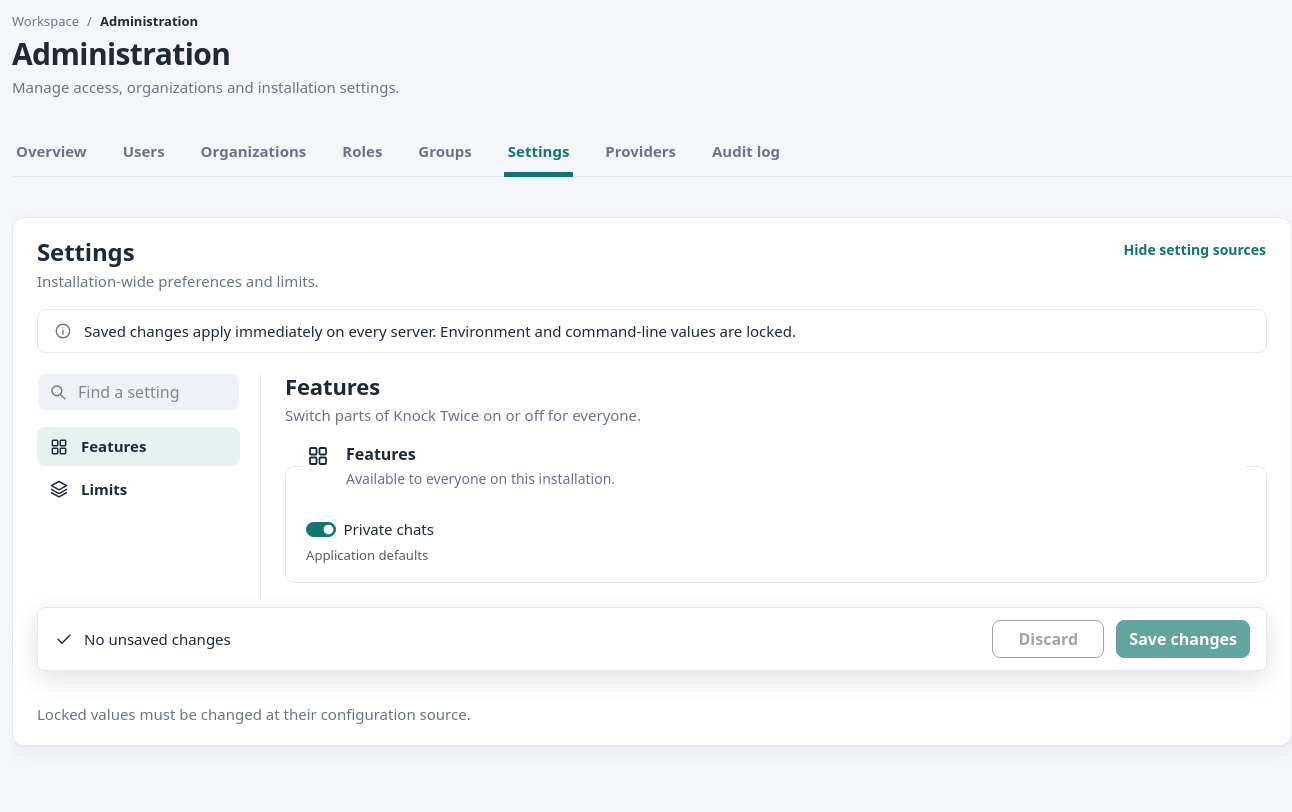
Test case: AdminPage › saves live settings and shows locked ones as read-only
The width and height of the screenshot is (1292, 812).
Expected: the text "No unsaved changes" is shown, [54,629,231,649]
Expected: the button "Save changes" is disabled, [1116,620,1250,658]
Click the switch labelled "Private chats": [321, 529] box [306,522,336,537]
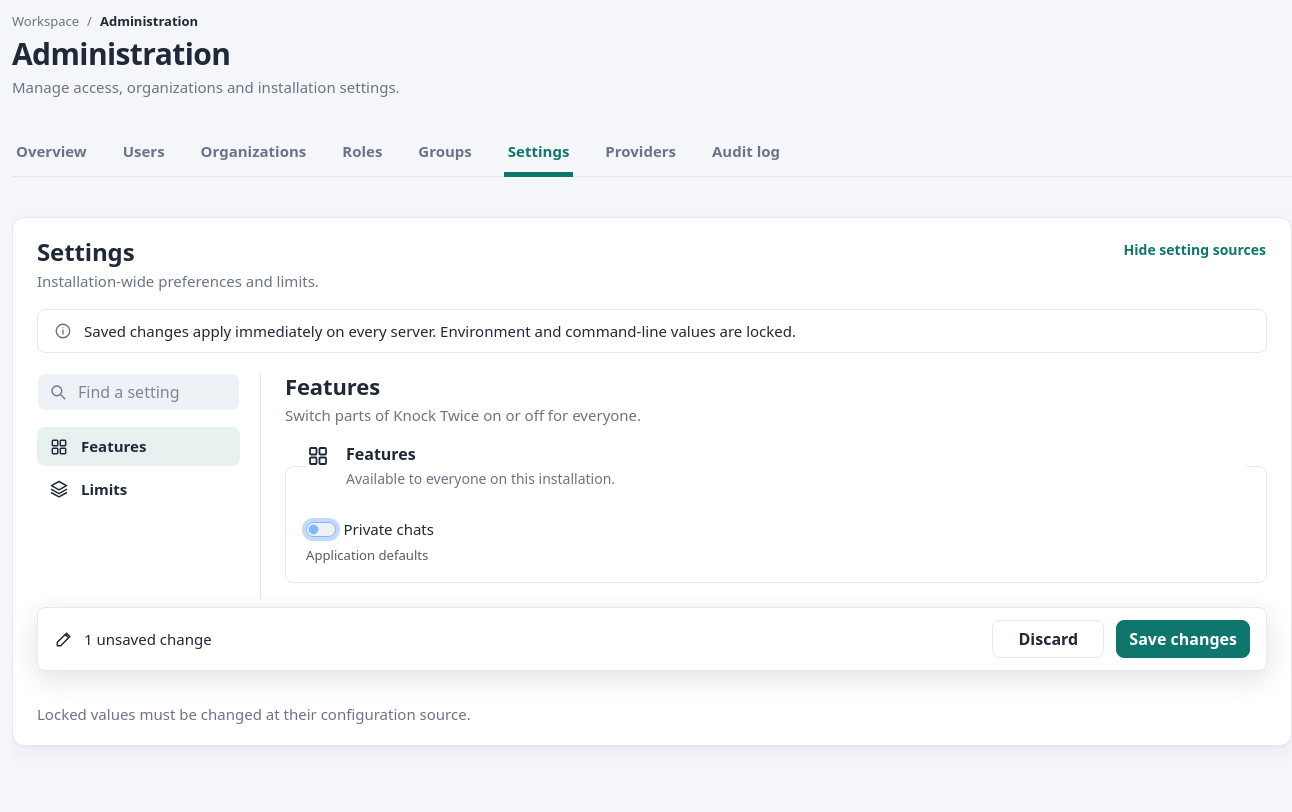
Result: the text "1 unsaved change" is shown at [54,629,212,649]
Click the button "Limits": [138, 489] box [37,470,240,508]
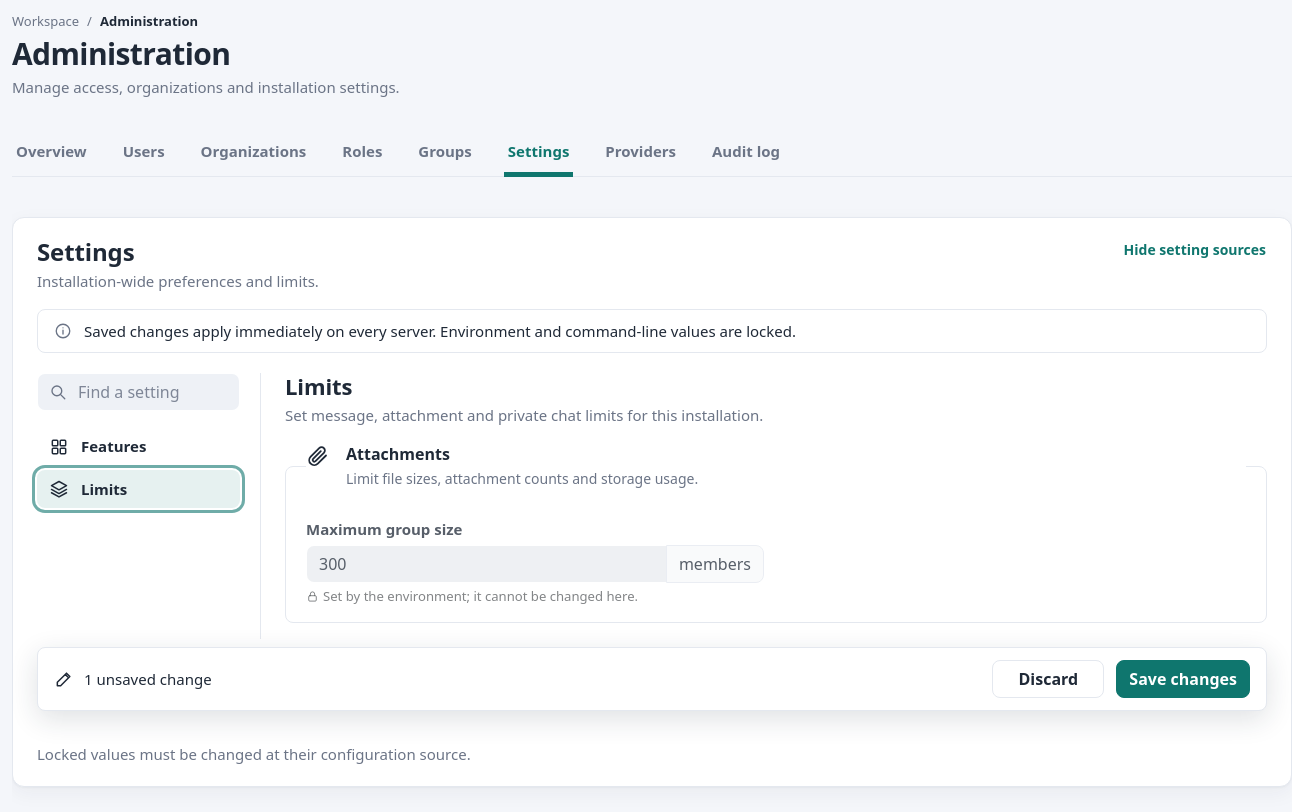
Result: the number field labelled "Maximum group size" is disabled at [306,545,667,583]
Result: the text "Set by the environment; it cannot be changed here." is shown at [306,587,638,605]
Result: the text "members" is shown at [666,545,764,583]
Note: Searching finds settings in every group.
In the search field labelled "Find a setting": [138, 392] box [37,373,240,411], type "private"
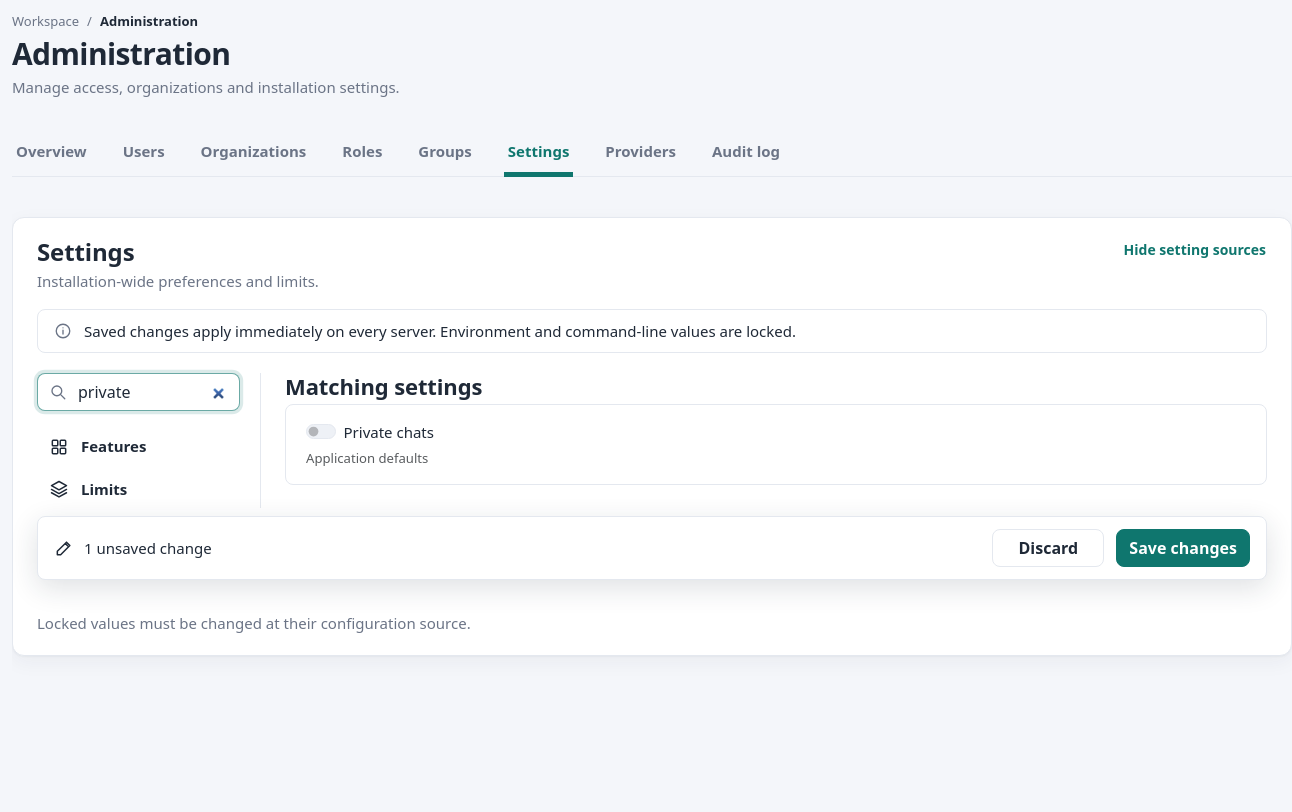
Result: the switch labelled "Private chats" is shown at [306,424,336,439]
Clear the search field named "Find a setting": [138, 392] box [37,373,240,411]
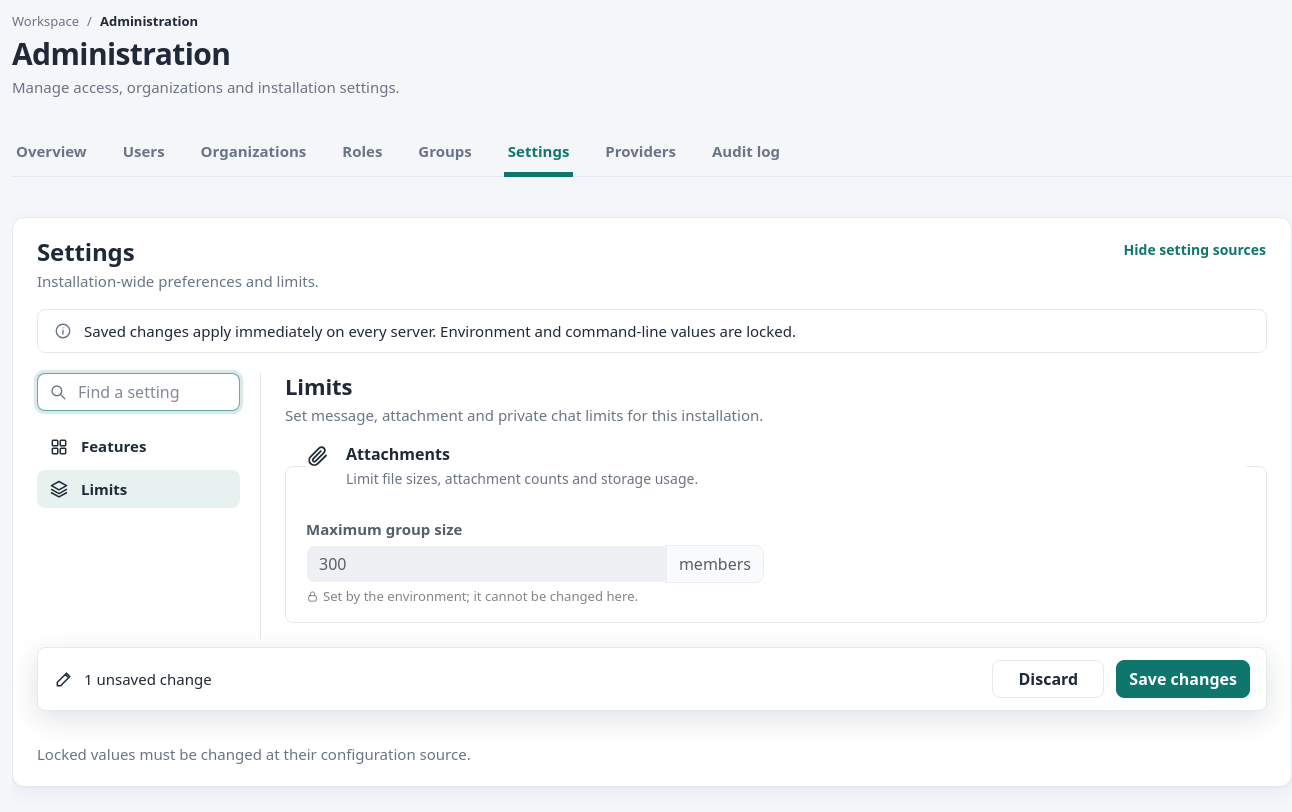
Click the button "Save changes": [1183, 679] box [1116,660,1250,698]
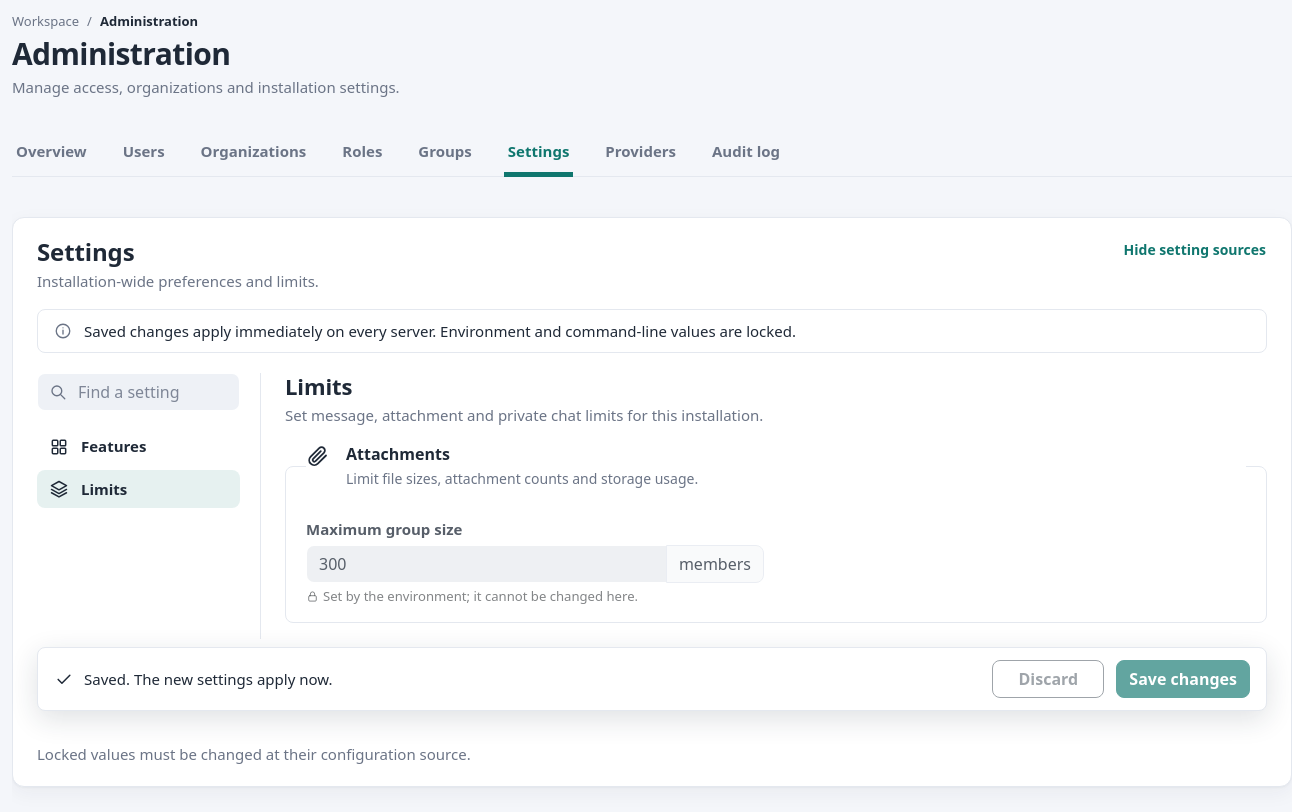
Result: the text "Saved. The new settings apply now." is shown at [54,669,332,689]
Click the button "Features": [138, 447] box [37,427,240,466]
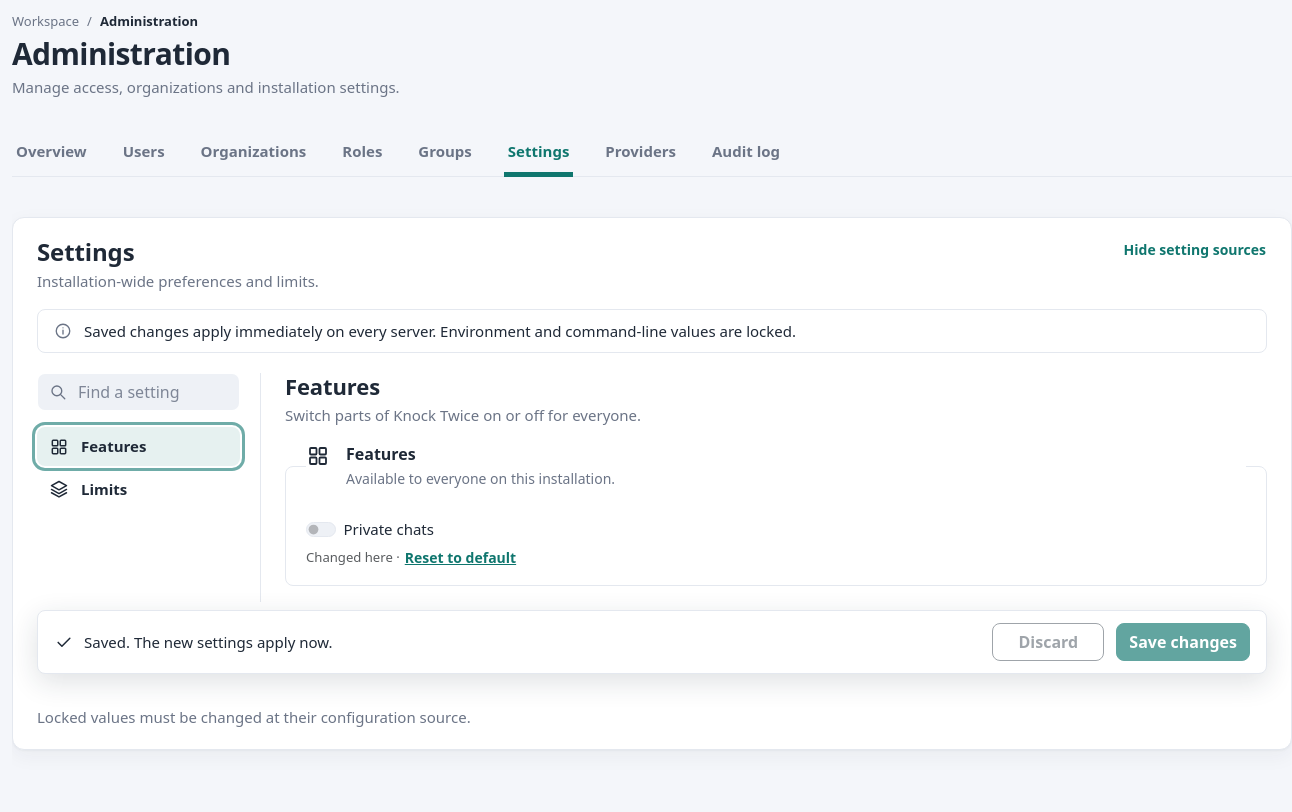
Result: the button "Reset to default" is shown at [404,546,517,569]
